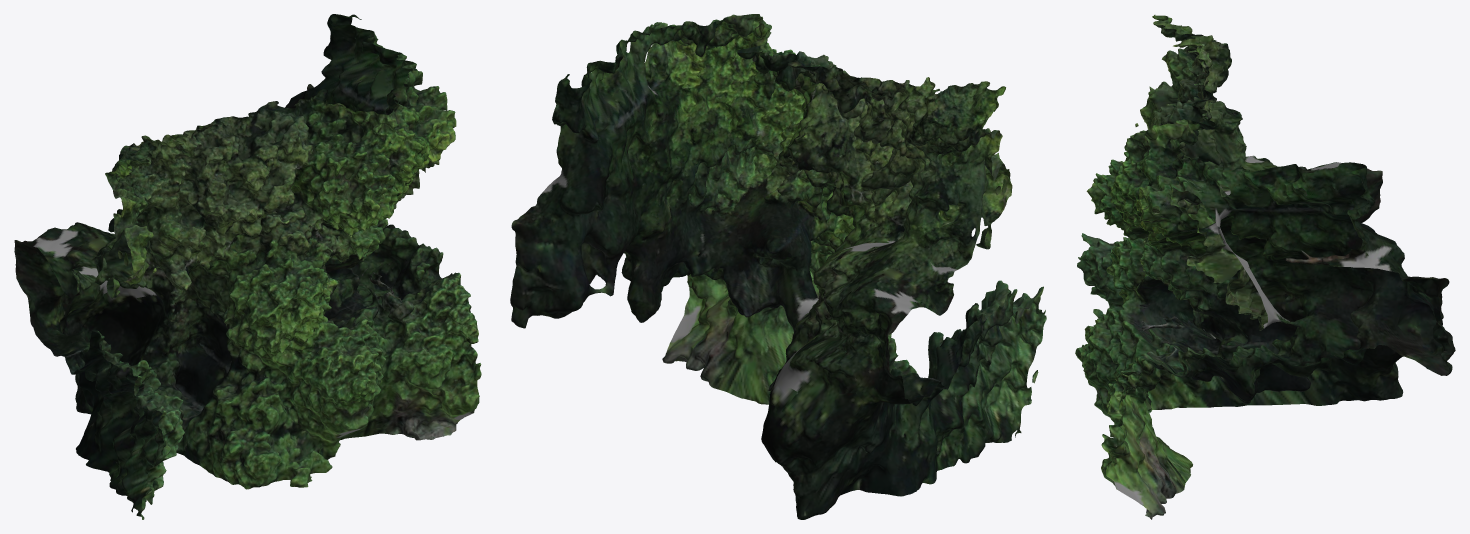
Rendered from Tile_+008_+004.fbx.
3 renders of one model, left to right at view 1: azimuth 30°, elevation 25°; view 2: azimuth 150°, elevation 25°; view 3: azimuth 270°, elevation 25°, orthographic. The views are drawn at different scales.
Parts seen in each view (by area): view 1: DefaultName; view 2: DefaultName; view 3: DefaultName.
Part boxes in pixels (x1=…): DefaultName: x1=14, y1=14, x2=481, y2=519; DefaultName: x1=510, y1=14, x2=1046, y2=519; DefaultName: x1=1075, y1=15, x2=1455, y2=519.
Bounding box in the file's own units: 22.54 × 22.54 × 22.55.
